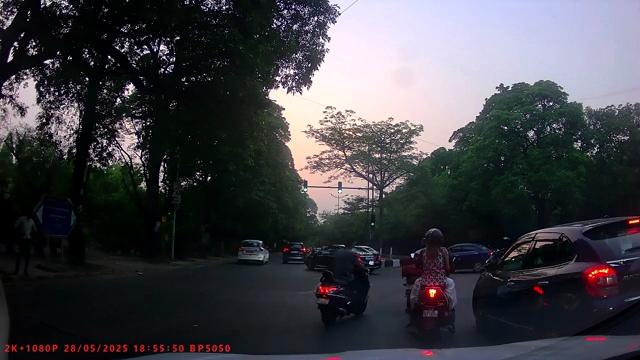motorcycle_without_helmet: (313, 235, 372, 328)
passenger_with_helmet: (401, 227, 460, 340)
